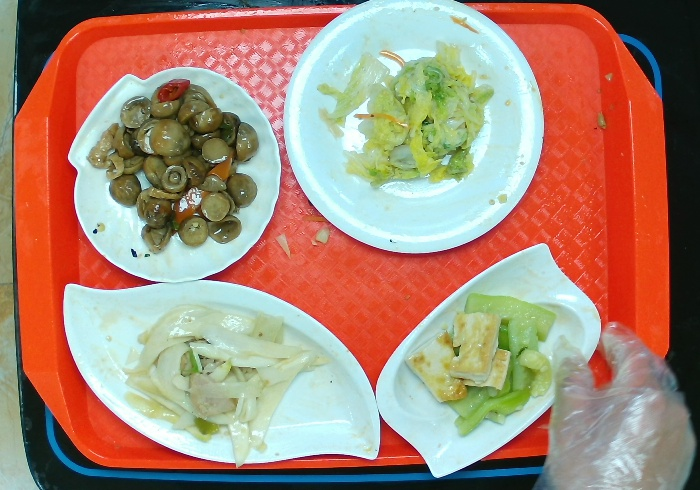RJxy-Bei_Ke_Wan: (66, 65, 283, 284)
RJxy-Jian_Jiao_Fang_Die: (374, 240, 603, 479)
RJxy-Jian_Jiao_Pan: (61, 278, 382, 464)
RJxy-Yuan_Pan: (282, 1, 546, 255)
